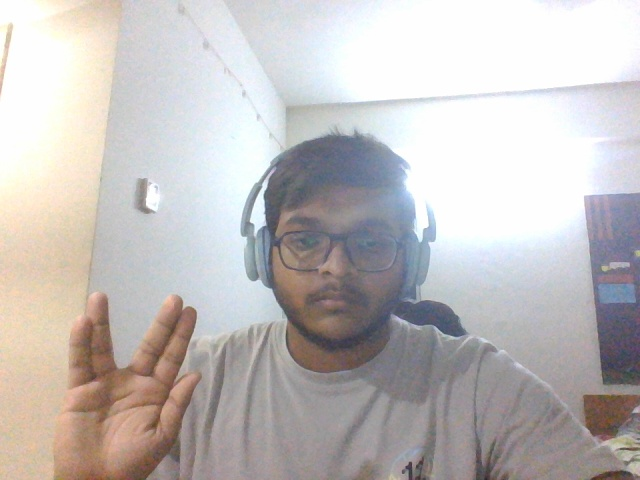LiveLong: (55, 291, 200, 480)
